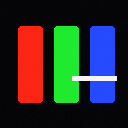3 line_h: (72, 76, 116, 80)
